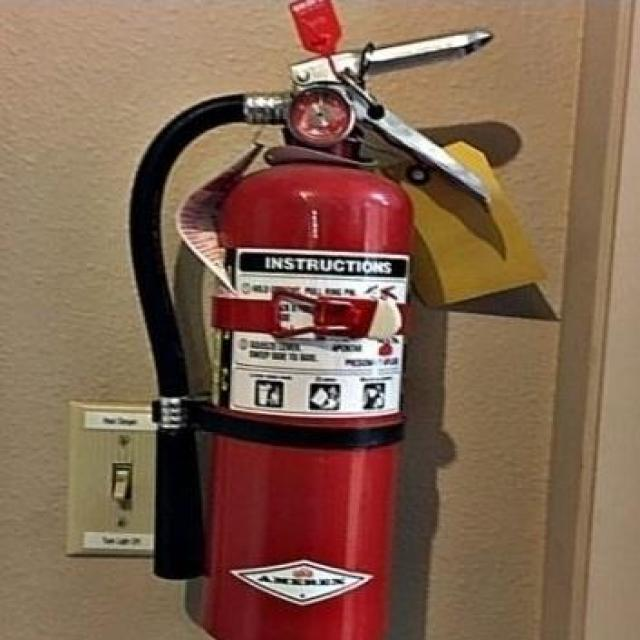fire_extinguisher: (116, 0, 506, 638)
